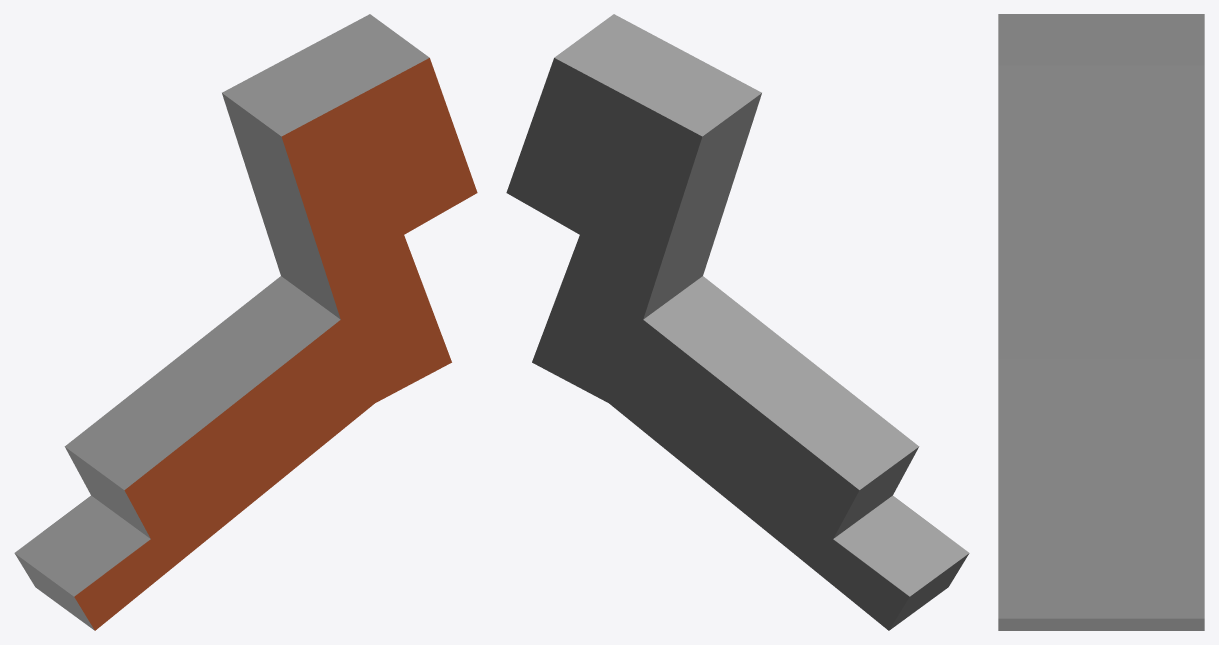
File: construction_5901_assumed_A_Casa_h6m.obj
The picture shows the model from 3 angles, left to right: view 1: azimuth 30°, elevation 25°; view 2: azimuth 150°, elevation 25°; view 3: azimuth 270°, elevation 25°; orthographic projection. The views are drawn at different scales.
Parts seen in each view (by area): view 1: construction_5901_assumed_A_Casa; view 2: construction_5901_assumed_A_Casa; view 3: construction_5901_assumed_A_Casa.
Boxes of the visible parts, x1,y1,x2,y2 form: construction_5901_assumed_A_Casa: [14, 14, 477, 630]; construction_5901_assumed_A_Casa: [506, 14, 969, 630]; construction_5901_assumed_A_Casa: [998, 14, 1204, 630].
Bounding box in the file's own units: 23.38 × 27.22 × 6.
